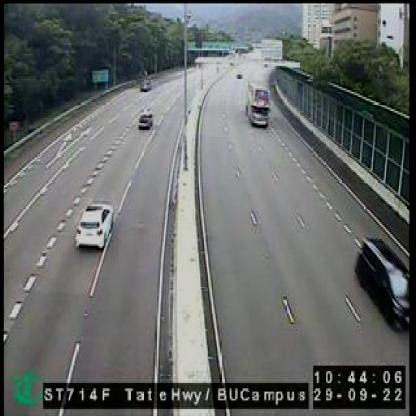Bus: (242, 75, 269, 130)
Car: (352, 234, 411, 336), (72, 196, 115, 251), (134, 107, 155, 130), (140, 76, 150, 92)
